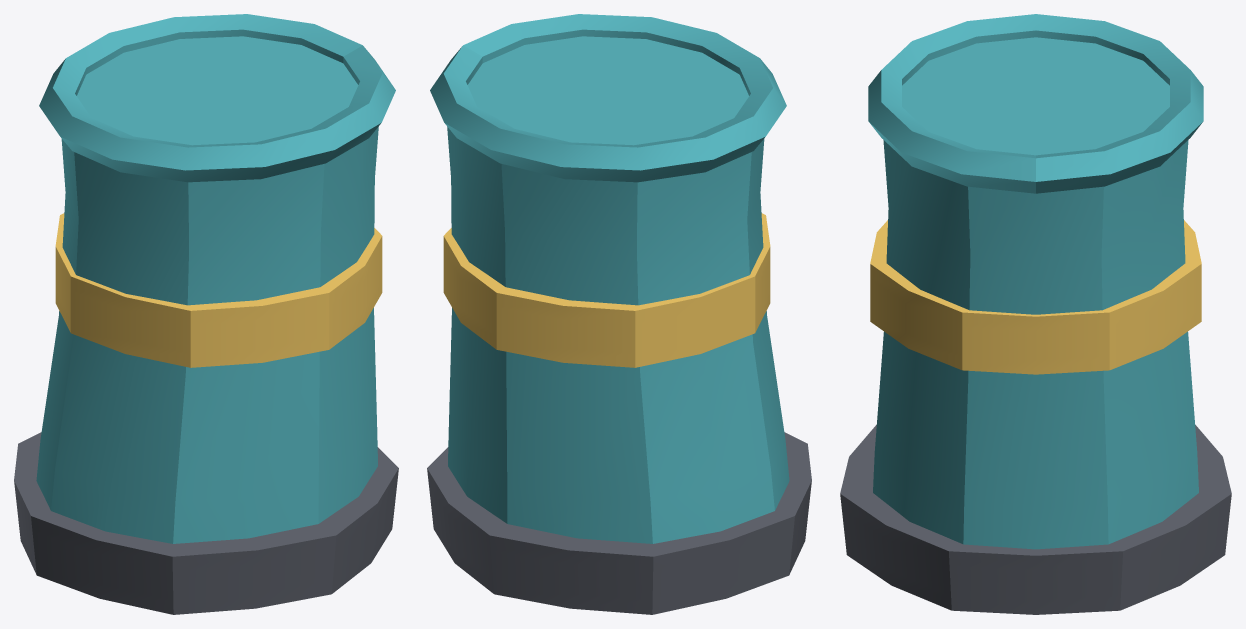
File: snowboard-gear-and-freestyle-riders-neck-warmer-4683a60f__27160.glb
The picture shows the model from 3 angles, left to right: view 1: azimuth 30°, elevation 25°; view 2: azimuth 150°, elevation 25°; view 3: azimuth 270°, elevation 25°; orthographic projection.
Parts seen in each view (by area): view 1: neck-warmer; view 2: neck-warmer; view 3: neck-warmer.
Boxes of the visible parts, x1=… form: neck-warmer: x1=14, y1=14, x2=398, y2=614; neck-warmer: x1=427, y1=14, x2=811, y2=614; neck-warmer: x1=840, y1=14, x2=1231, y2=614.
Bounding box in the file's own units: 0.177 × 0.2216 × 0.1716.
